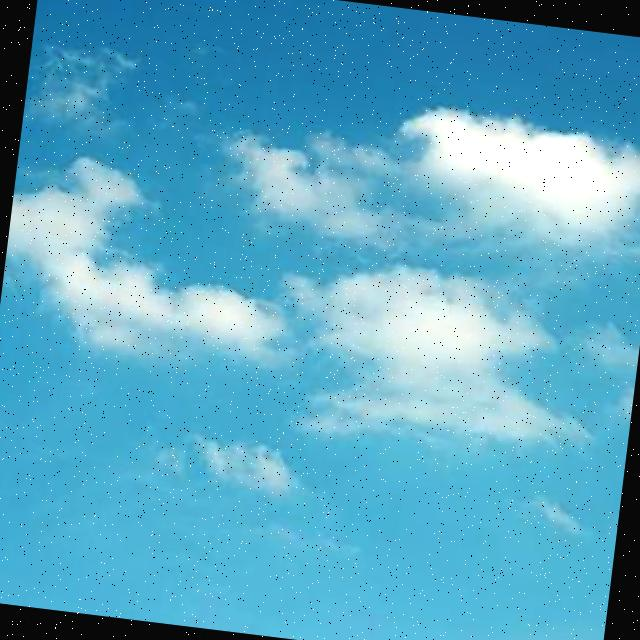Cc: (1, 43, 640, 546)
